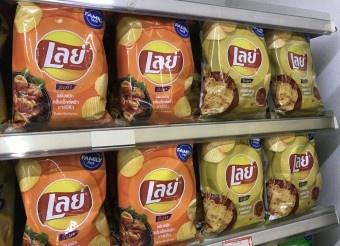snack: (5, 0, 110, 133), (111, 15, 198, 127), (196, 16, 270, 119), (268, 28, 325, 118)
